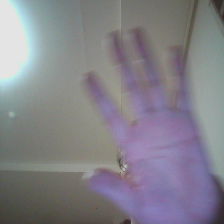hand: (82, 24, 218, 222)
